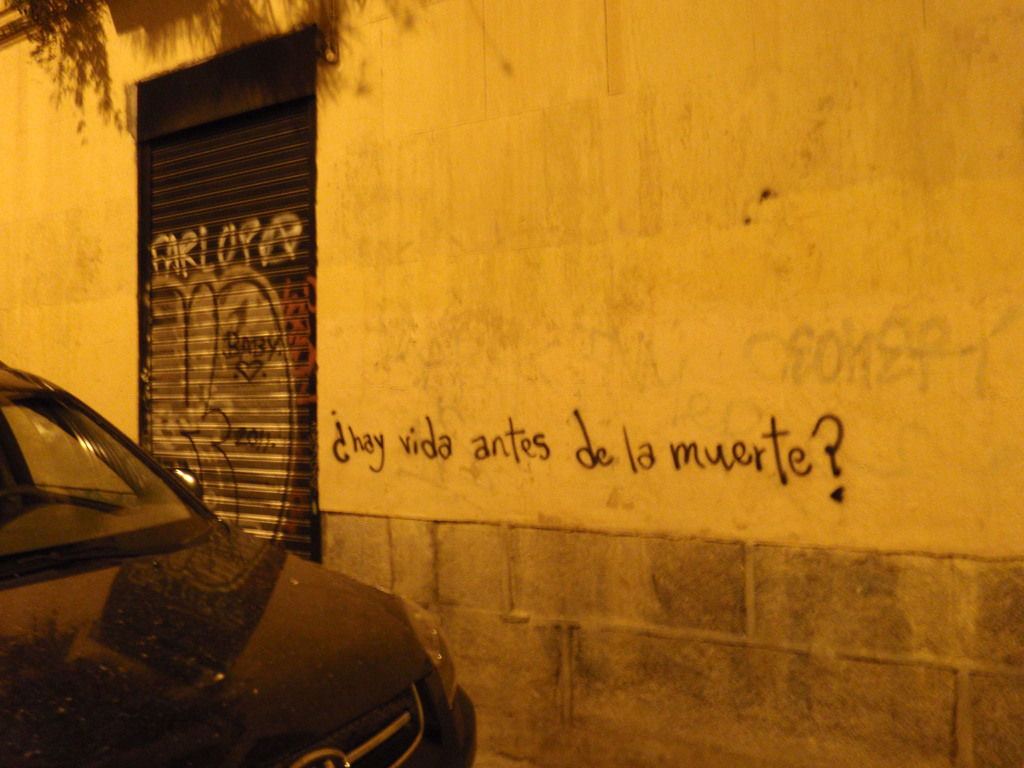car: (1, 322, 522, 768)
